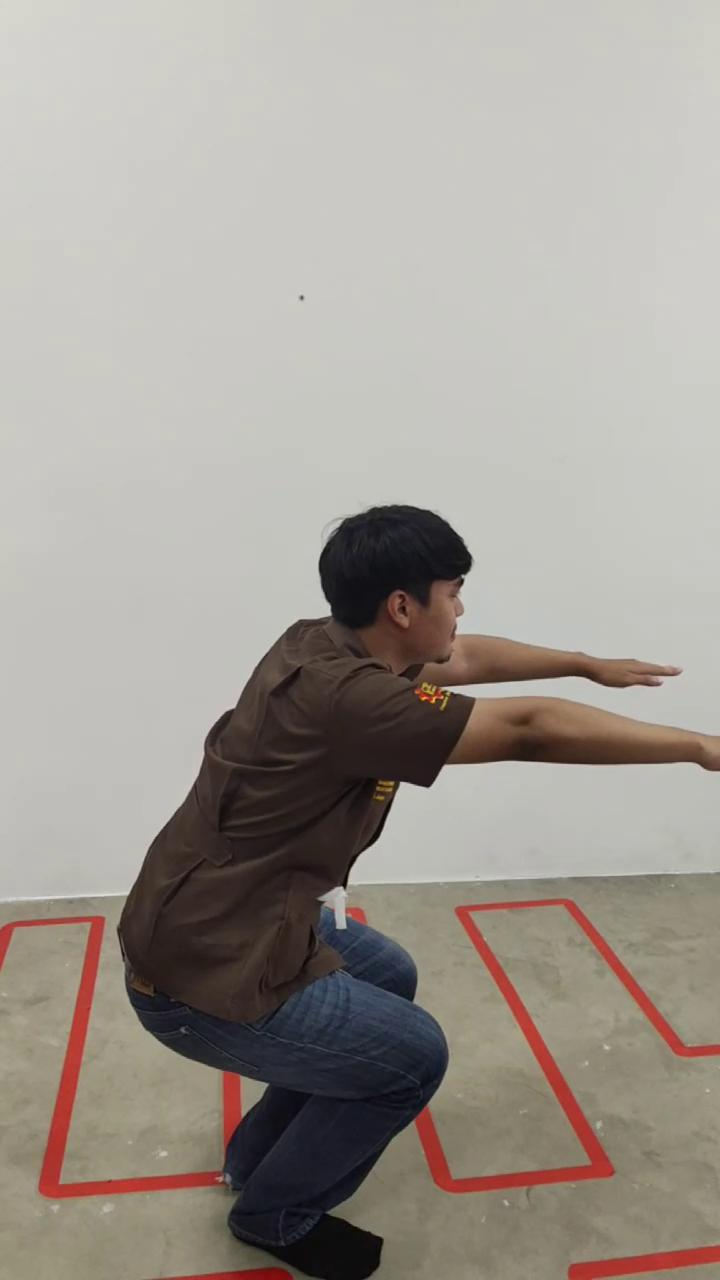squat down: (120, 505, 718, 1280)
